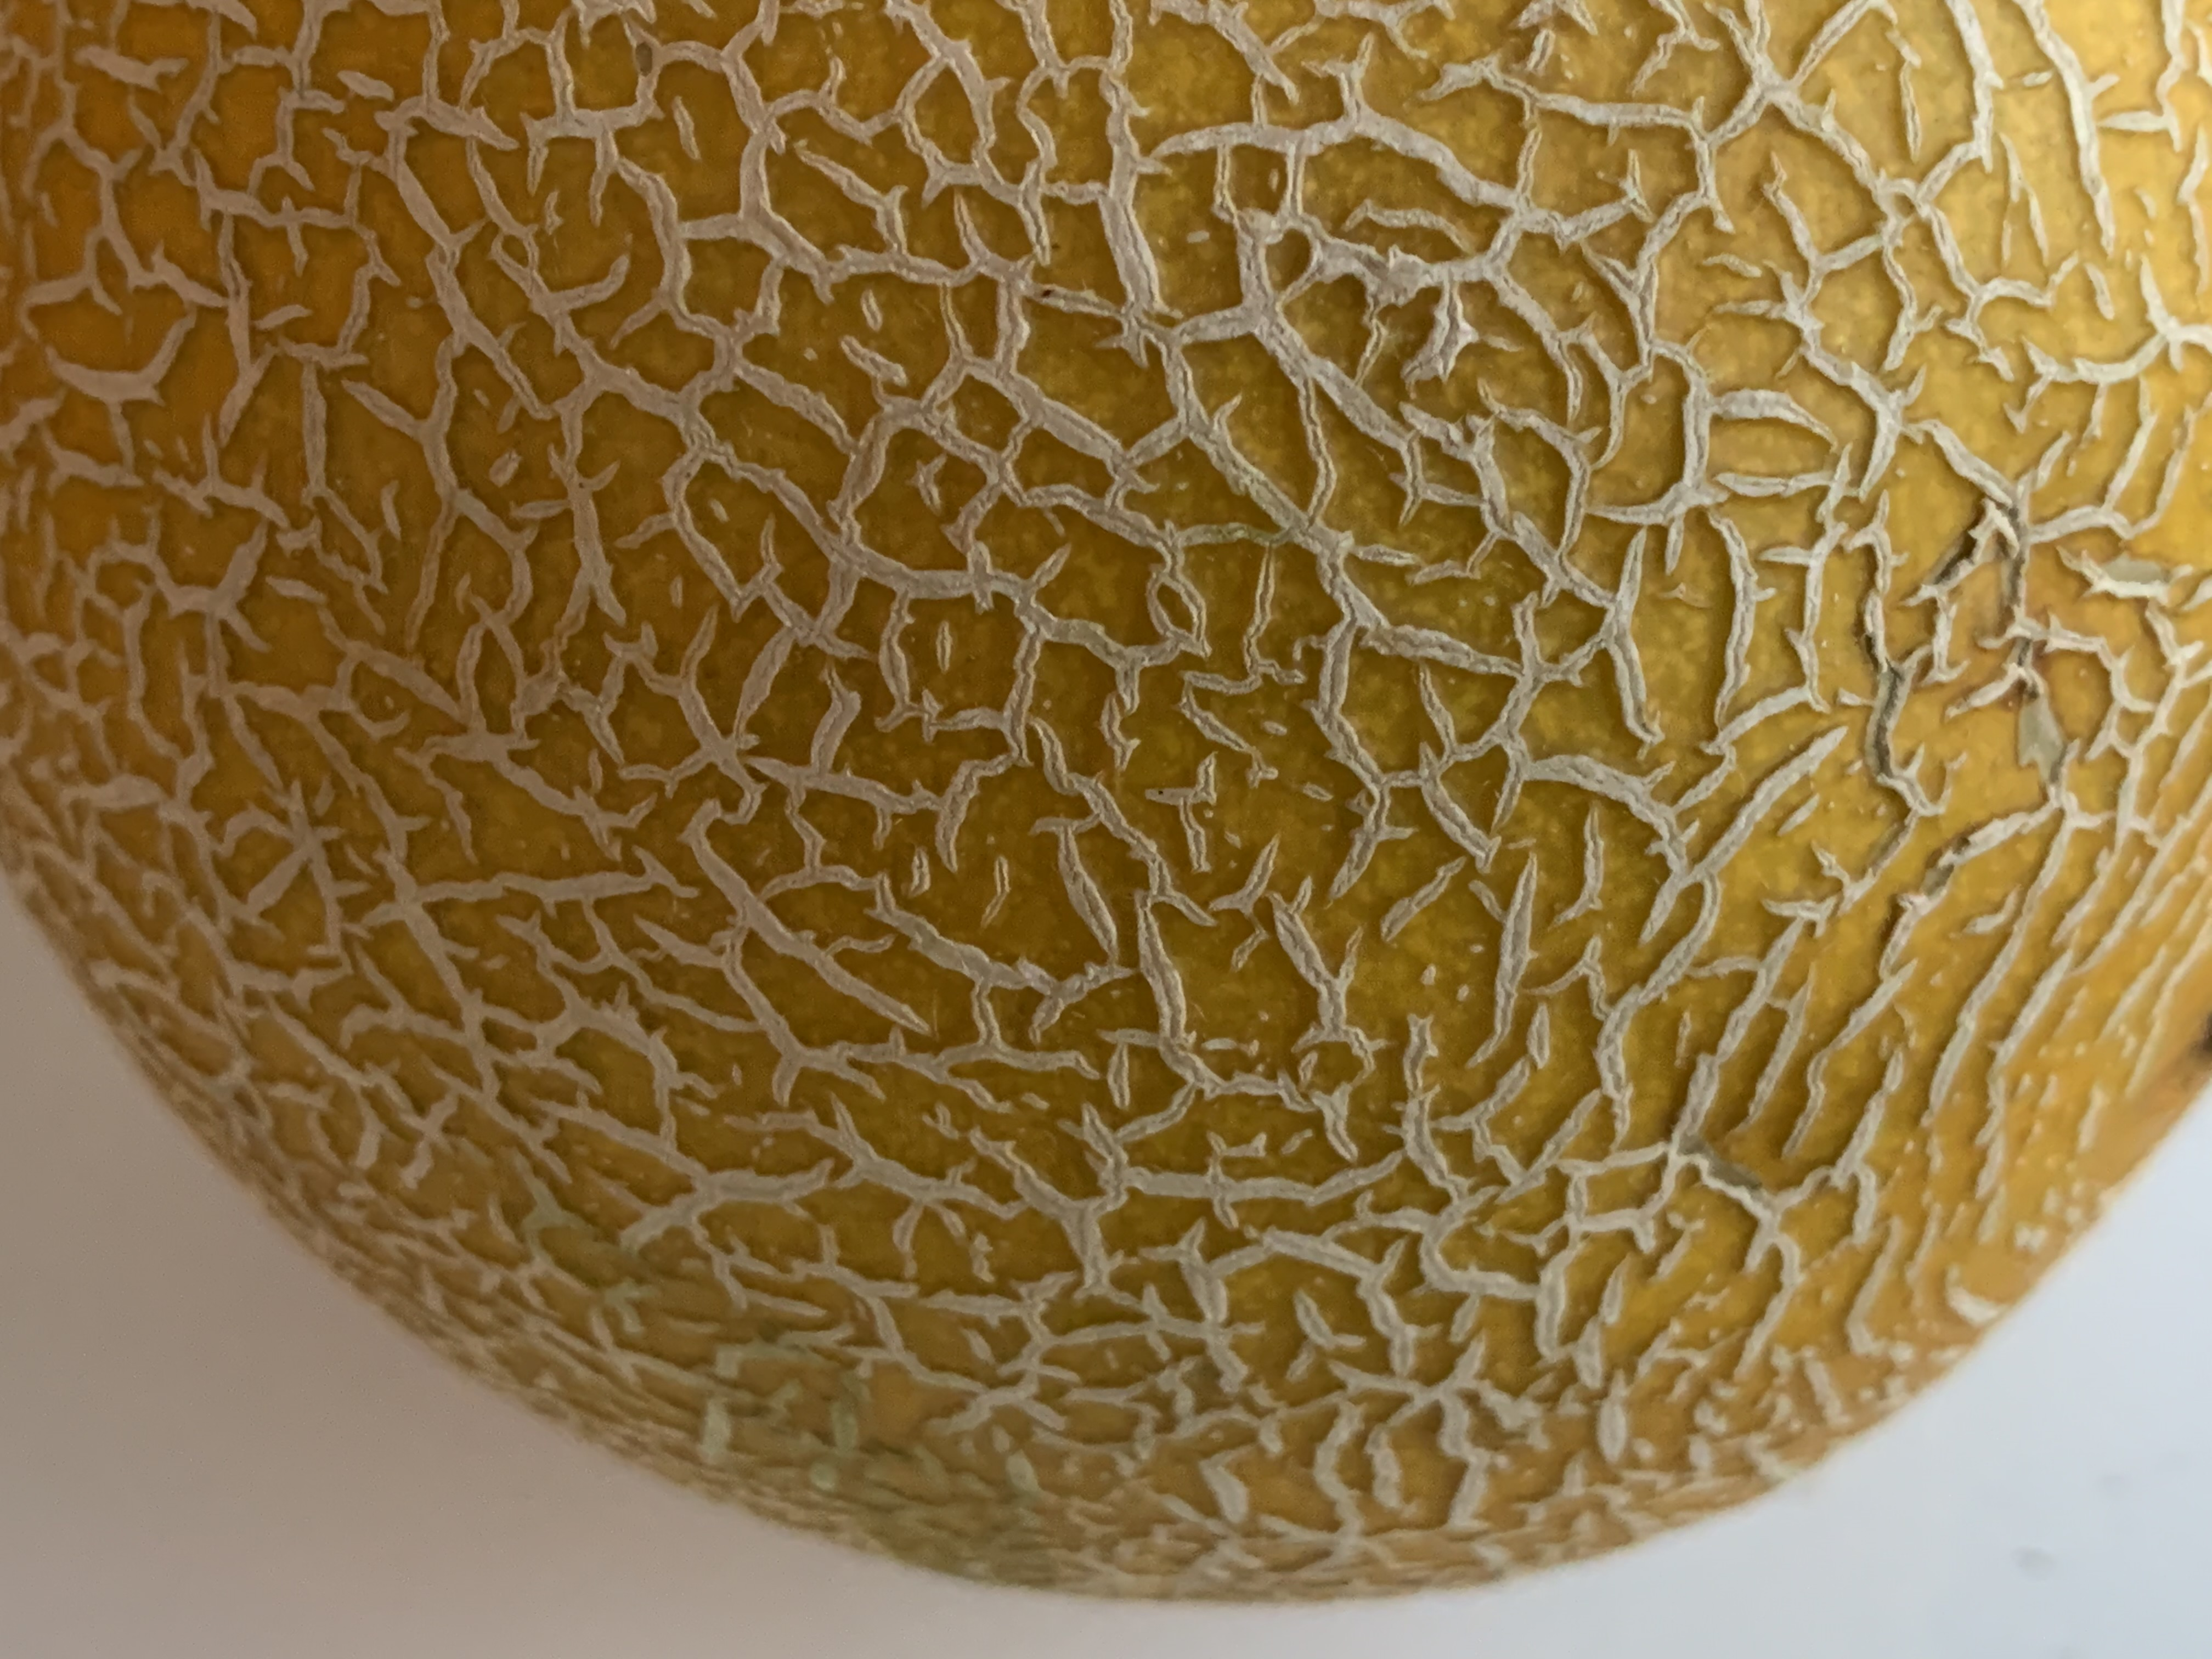galia melon: (9, 0, 2209, 1636)
